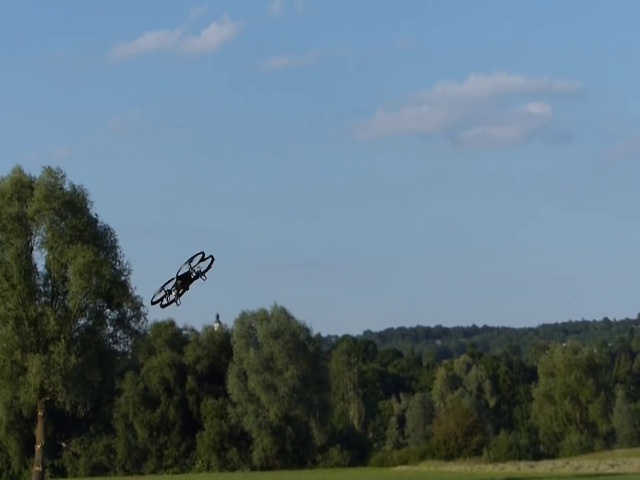drone: (149, 249, 215, 311)
